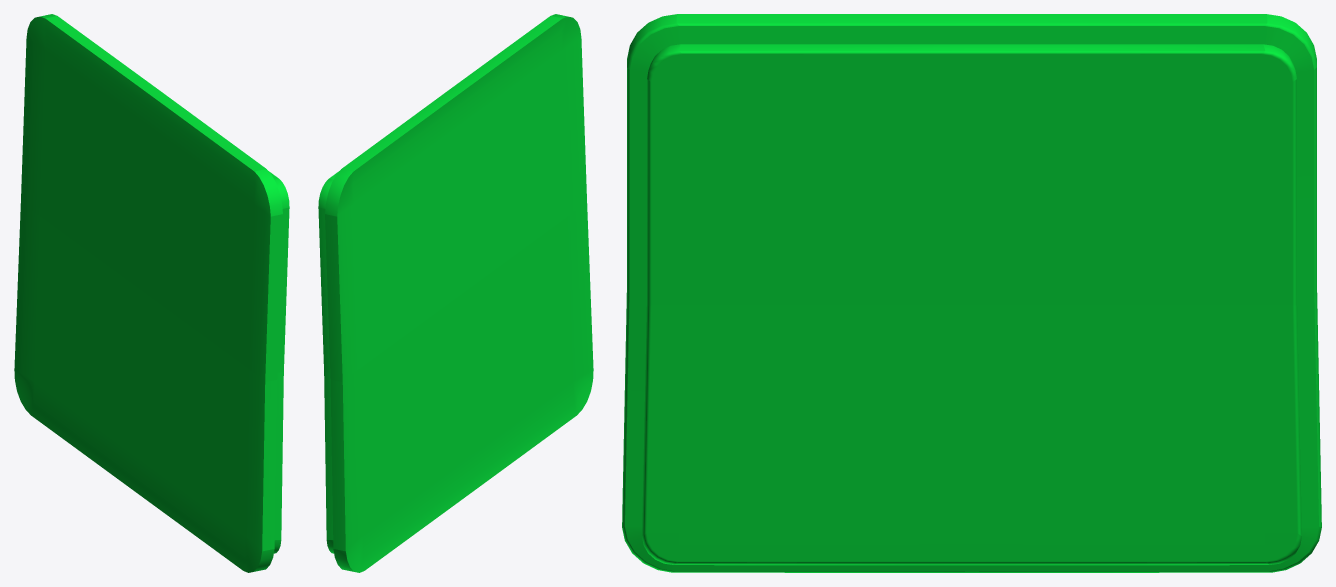
The model's file is Coin_Metal.fbx.
3 renders of one model, left to right at view 1: azimuth 30°, elevation 25°; view 2: azimuth 150°, elevation 25°; view 3: azimuth 270°, elevation 25°, orthographic. The views are drawn at different scales.
Visible parts, largest first — view 1: Coin_Metal; view 2: Coin_Metal; view 3: Coin_Metal.
Boxes of the visible parts, x1,y1,x2,y2 form: Coin_Metal: (14,14,289,572); Coin_Metal: (318,14,593,572); Coin_Metal: (622,14,1321,572).
Size of the model in its own units: 2.66 by 26.44 by 29.99.
